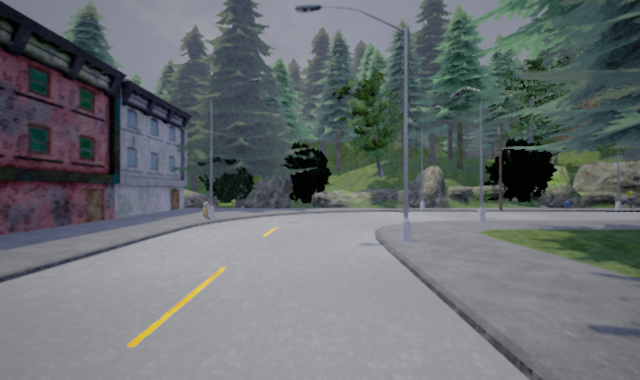pedestrian: (196, 195, 215, 220), (622, 187, 637, 208), (560, 193, 574, 209)
